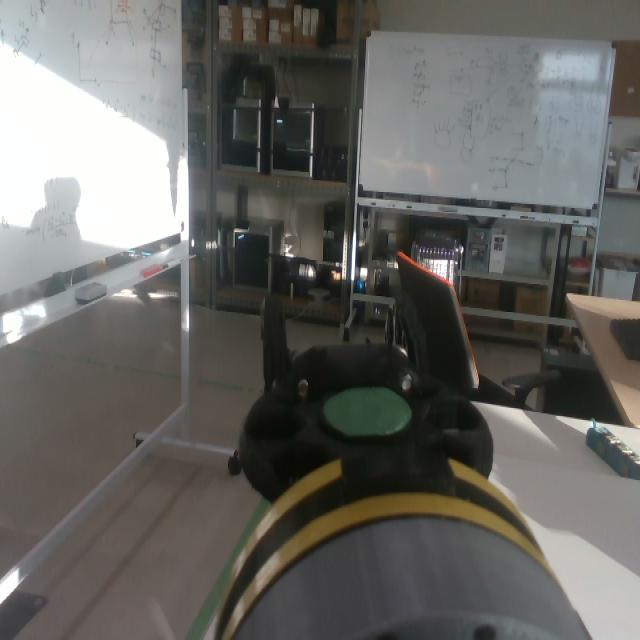body_connector: (233, 515, 592, 640)
connection: (209, 447, 587, 640)
leg: (215, 295, 549, 640)
leg_connector: (206, 449, 545, 637)
marker: (322, 386, 411, 436)
